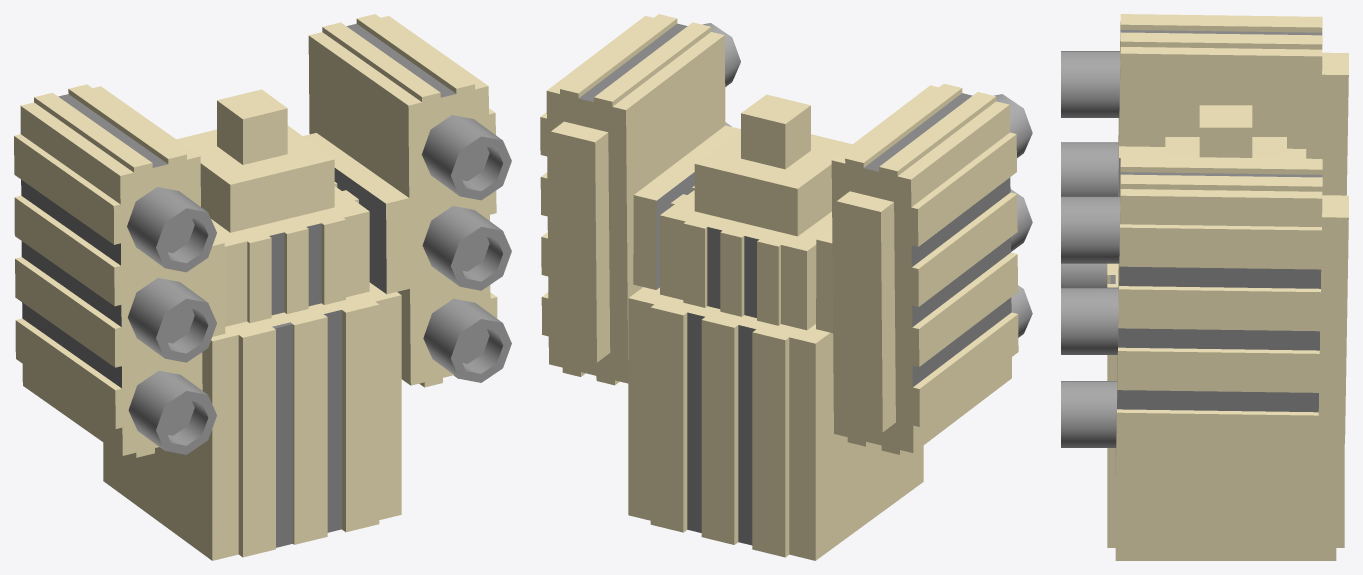
The model's file is Stalinka_armed_1.fbx.
The picture shows the model from 3 angles, left to right: view 1: azimuth 30°, elevation 25°; view 2: azimuth 150°, elevation 25°; view 3: azimuth 270°, elevation 25°; orthographic projection. The views are drawn at different scales.
Parts seen in each view (by area): view 1: Stalinka_armed_1; view 2: Stalinka_armed_1; view 3: Stalinka_armed_1.
Boxes of the visible parts, left/top/right/bottom form: Stalinka_armed_1: left=14, top=14, right=511, bottom=560; Stalinka_armed_1: left=540, top=14, right=1032, bottom=560; Stalinka_armed_1: left=1061, top=14, right=1348, bottom=560.
Size of the model in its own units: 92.55 by 94.99 by 59.74.
